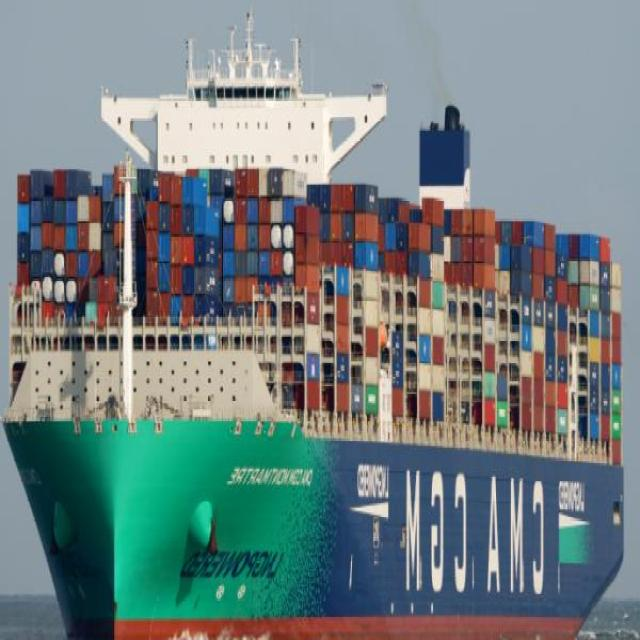Container Ship: (1, 4, 626, 638)
